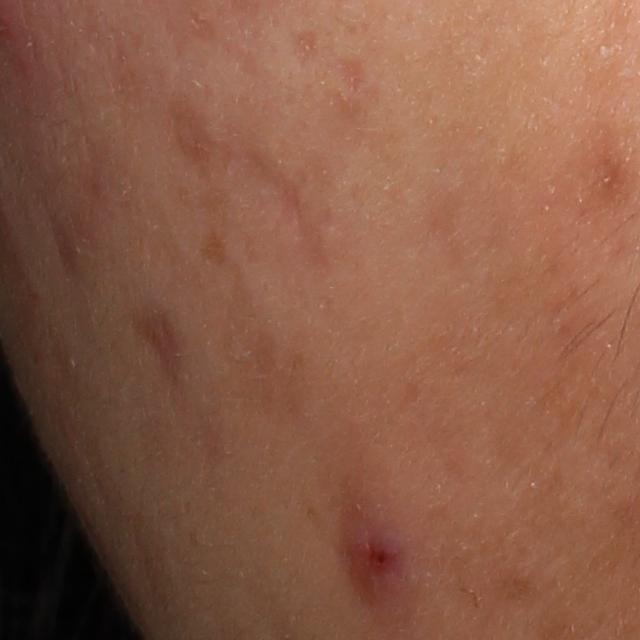atrophic_scar: (133, 310, 186, 380), (329, 57, 371, 97), (289, 28, 323, 66)
papule: (347, 523, 413, 591)
